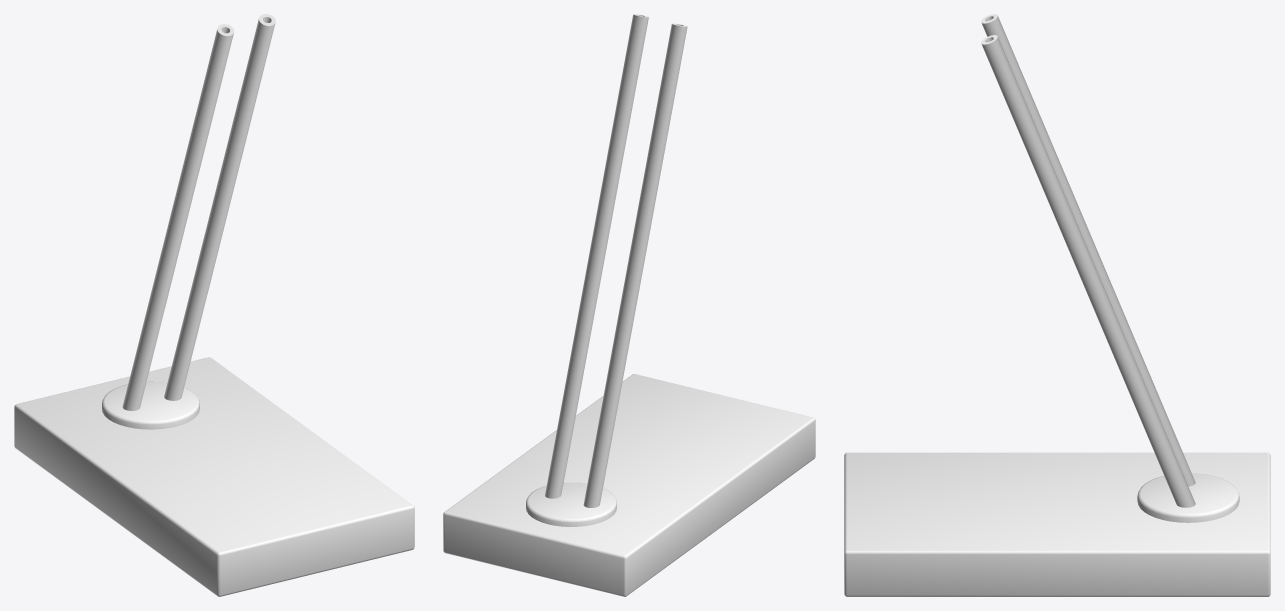
File: lam2.obj
3 renders of one model, left to right at view 1: azimuth 30°, elevation 25°; view 2: azimuth 150°, elevation 25°; view 3: azimuth 270°, elevation 25°, orthographic. The views are drawn at different scales.
Visible parts, largest first — view 1: lamp_MeshpolySurface2, lamp_MeshpolySurface3, polySurface4lamp_Mesh, lamp_MeshpolySurface1; view 2: lamp_MeshpolySurface2, polySurface4lamp_Mesh, lamp_MeshpolySurface3, lamp_MeshpolySurface1; view 3: lamp_MeshpolySurface2, polySurface4lamp_Mesh, lamp_MeshpolySurface3, lamp_MeshpolySurface1.
Part boxes in pixels (box(x1,y1,x2,y2)): lamp_MeshpolySurface2: box(14, 357, 414, 596); lamp_MeshpolySurface3: box(122, 24, 234, 410); polySurface4lamp_Mesh: box(164, 14, 275, 400); lamp_MeshpolySurface1: box(102, 381, 199, 429); lamp_MeshpolySurface2: box(443, 374, 815, 596); polySurface4lamp_Mesh: box(545, 14, 648, 498); lamp_MeshpolySurface3: box(583, 23, 687, 507); lamp_MeshpolySurface1: box(526, 482, 616, 526); lamp_MeshpolySurface2: box(844, 452, 1270, 596); polySurface4lamp_Mesh: box(981, 35, 1195, 507); lamp_MeshpolySurface3: box(981, 14, 1195, 486); lamp_MeshpolySurface1: box(1137, 473, 1239, 522).
Bounding box in the file's own units: 0.0745 × 0.1808 × 0.1341.
1 material, 1 textured.
